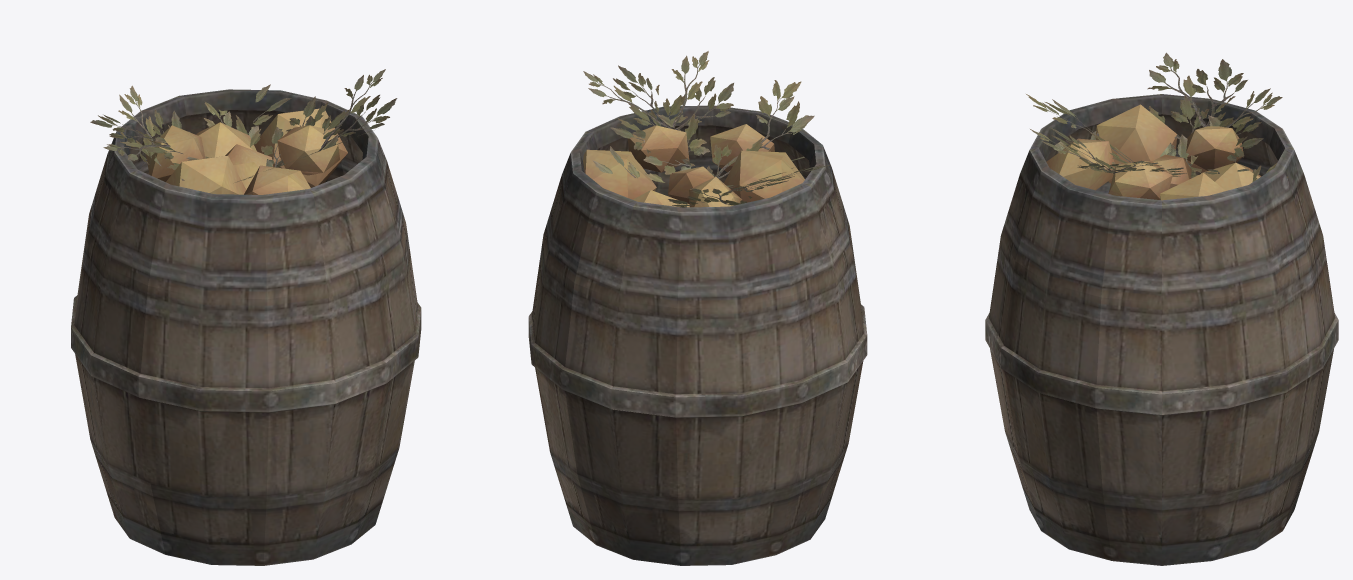
File: bg_lut_pearhabit_pearbarrel01_sm.FBX
The picture shows the model from 3 angles, left to right: view 1: azimuth 30°, elevation 25°; view 2: azimuth 150°, elevation 25°; view 3: azimuth 270°, elevation 25°; orthographic projection. The views are drawn at different scales.
Visible parts, largest first — view 1: bg_lut_pearhabit_pearbarrel01_sm; view 2: bg_lut_pearhabit_pearbarrel01_sm; view 3: bg_lut_pearhabit_pearbarrel01_sm.
Boxes of the visible parts, left/top/right/bottom form: bg_lut_pearhabit_pearbarrel01_sm: left=71, top=69, right=421, bottom=565; bg_lut_pearhabit_pearbarrel01_sm: left=528, top=51, right=867, bottom=565; bg_lut_pearhabit_pearbarrel01_sm: left=985, top=52, right=1338, bottom=565.
Bounding box in the file's own units: 55.1 × 71.7 × 59.79.
